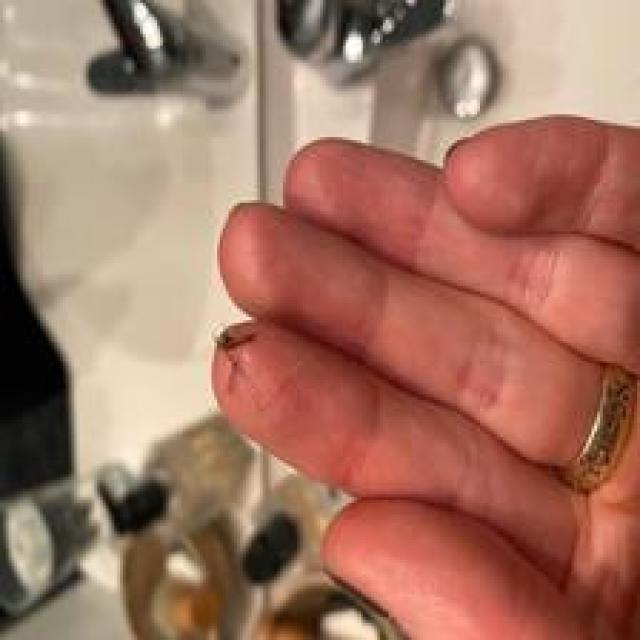Culex: (92, 408, 407, 640)
